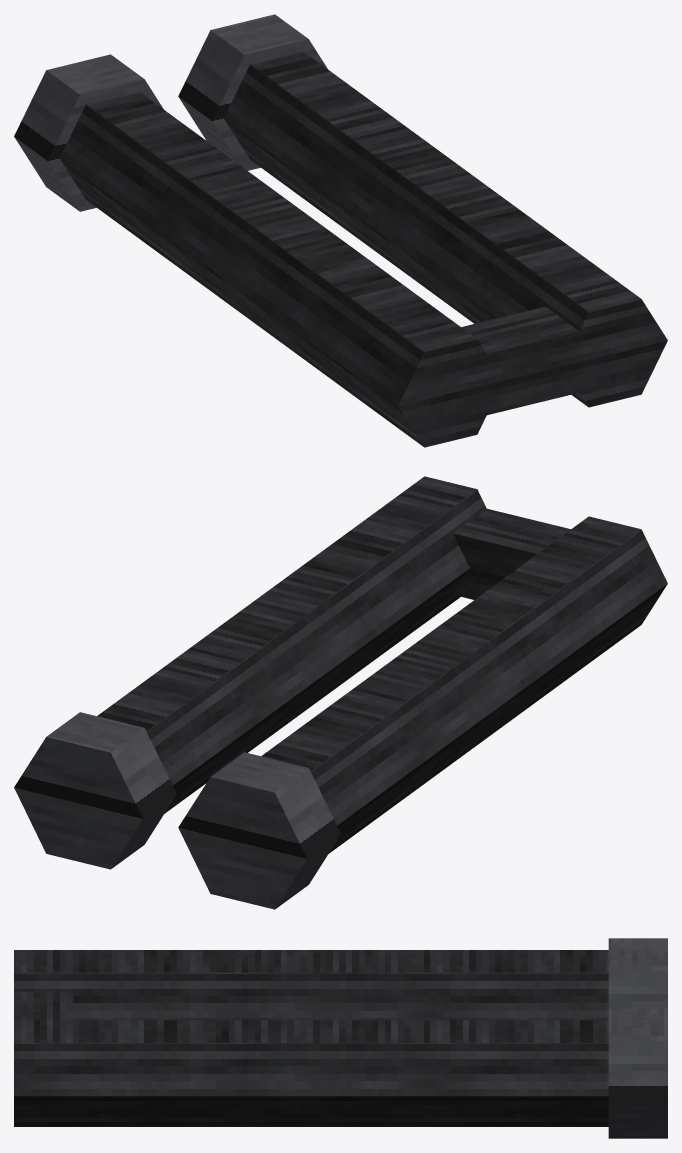
The model's file is twin_barrel_port_arsenal.glb.
The picture shows the model from 3 angles, top to bottom: view 1: azimuth 30°, elevation 25°; view 2: azimuth 150°, elevation 25°; view 3: azimuth 270°, elevation 25°; orthographic projection. The views are drawn at different scales.
Parts seen in each view (by area): view 1: barrel, barrel.001, brace, muzzle, muzzle.001; view 2: barrel, barrel.001, muzzle, muzzle.001, brace; view 3: barrel.001, barrel, muzzle.001, muzzle, brace.
Boxes of the visible parts, x1=… form: barrel: x1=59, y1=91, x2=503, y2=447; barrel.001: x1=224, y1=51, x2=667, y2=407; brace: x1=415, y1=306, x2=610, y2=432; muzzle: x1=14, y1=54, x2=163, y2=211; muzzle.001: x1=178, y1=14, x2=327, y2=170; barrel: x1=261, y1=516, x2=667, y2=853; barrel.001: x1=97, y1=476, x2=486, y2=813; muzzle: x1=178, y1=752, x2=340, y2=909; muzzle.001: x1=14, y1=712, x2=176, y2=869; brace: x1=453, y1=508, x2=570, y2=599; barrel.001: x1=14, y1=1020, x2=608, y2=1126; barrel: x1=14, y1=950, x2=608, y2=1020; muzzle.001: x1=608, y1=1008, x2=667, y2=1138; muzzle: x1=608, y1=938, x2=667, y2=1008; brace: x1=14, y1=991, x2=73, y2=1020.
Size of the model in its own units: 10 by 3.81 by 22.
Materials: 2 (2 with a texture image).
